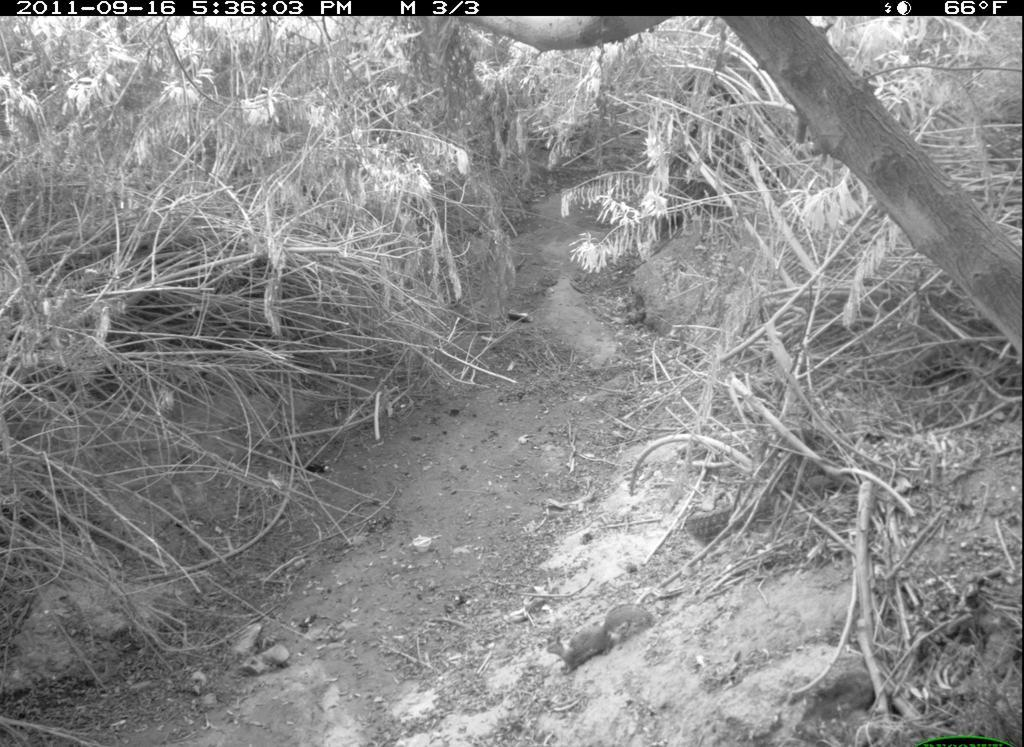squirrel: (541, 599, 665, 678)
